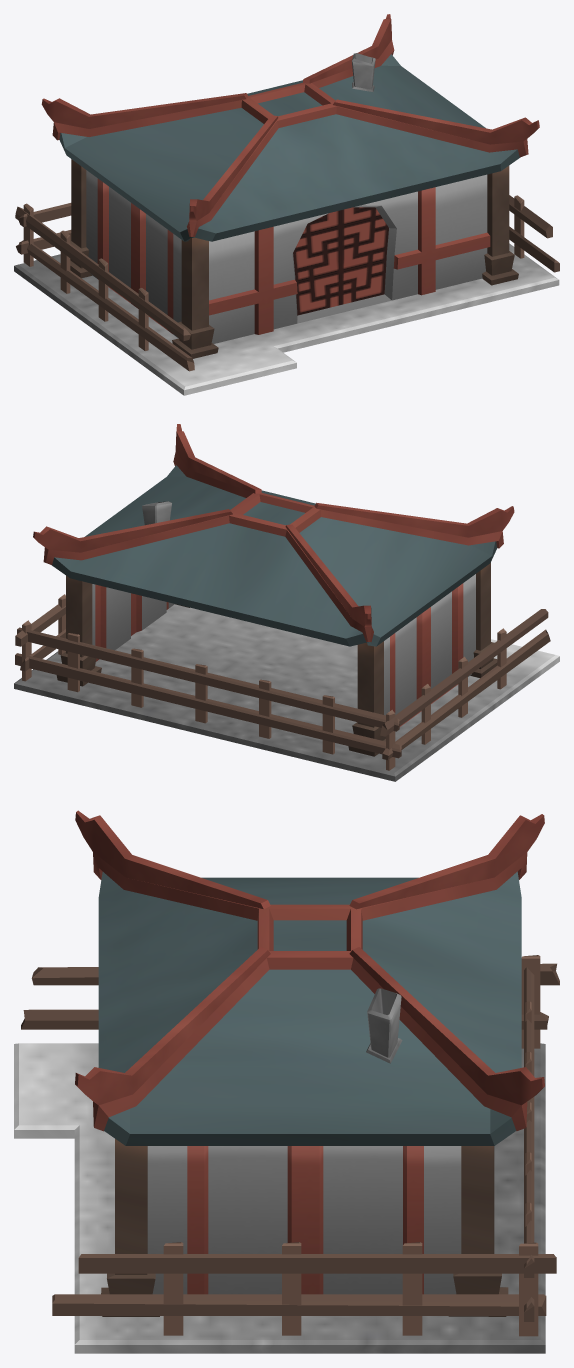
The model's file is blacksmith_2lvl_color.fbx.
3 renders of one model, top to bottom at view 1: azimuth 30°, elevation 25°; view 2: azimuth 150°, elevation 25°; view 3: azimuth 270°, elevation 25°, orthographic. The views are drawn at different scales.
Parts seen in each view (by area): view 1: blacksmith_2lvl1_color; view 2: blacksmith_2lvl1_color; view 3: blacksmith_2lvl1_color.
Boxes of the visible parts, x1,y1,x2,y2 form: blacksmith_2lvl1_color: (14, 14, 559, 395); blacksmith_2lvl1_color: (14, 424, 559, 781); blacksmith_2lvl1_color: (14, 810, 559, 1353).
Size of the model in its own units: 6.07 by 2.64 by 4.6.
